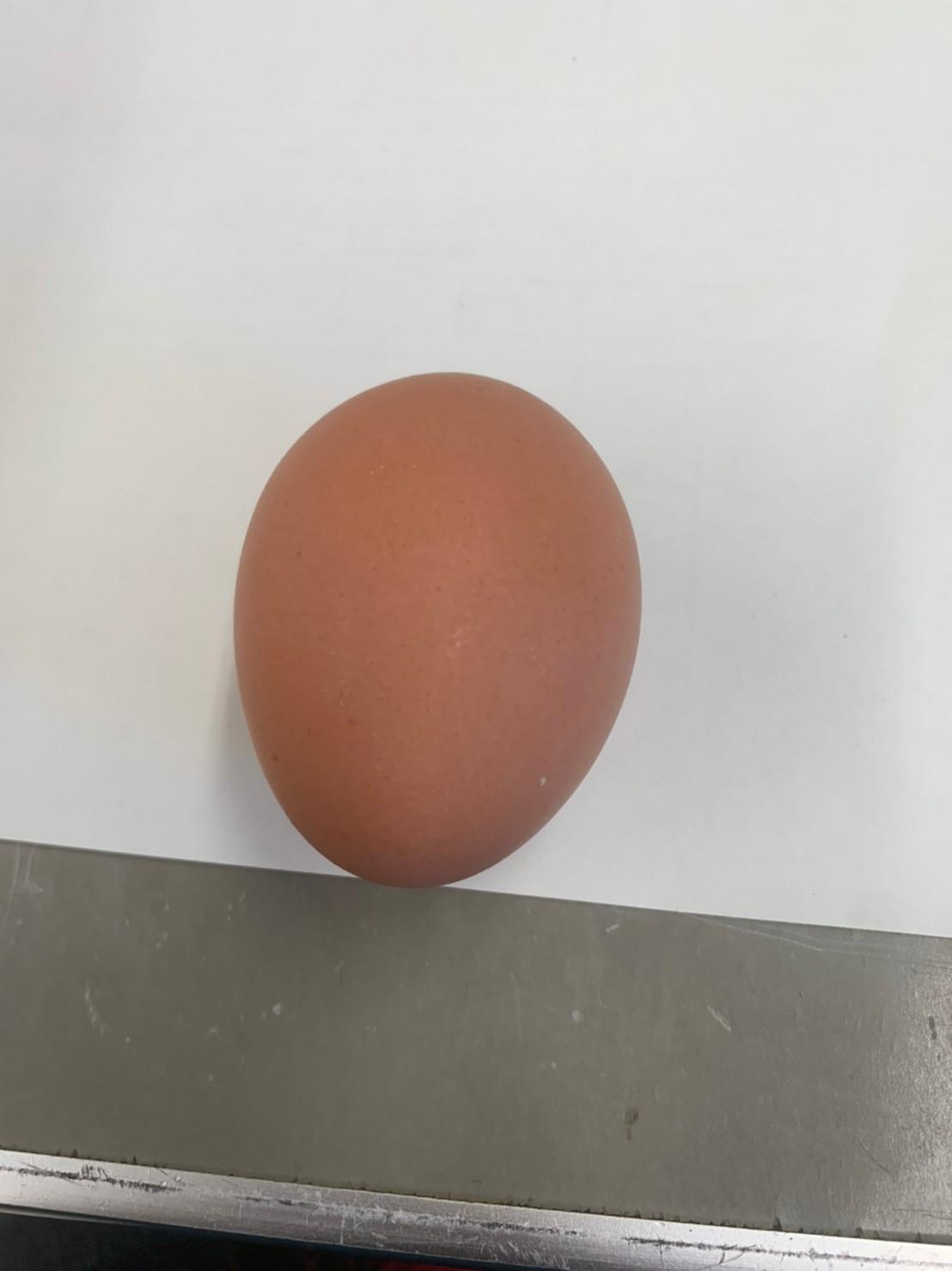egg: (220, 359, 651, 896)
